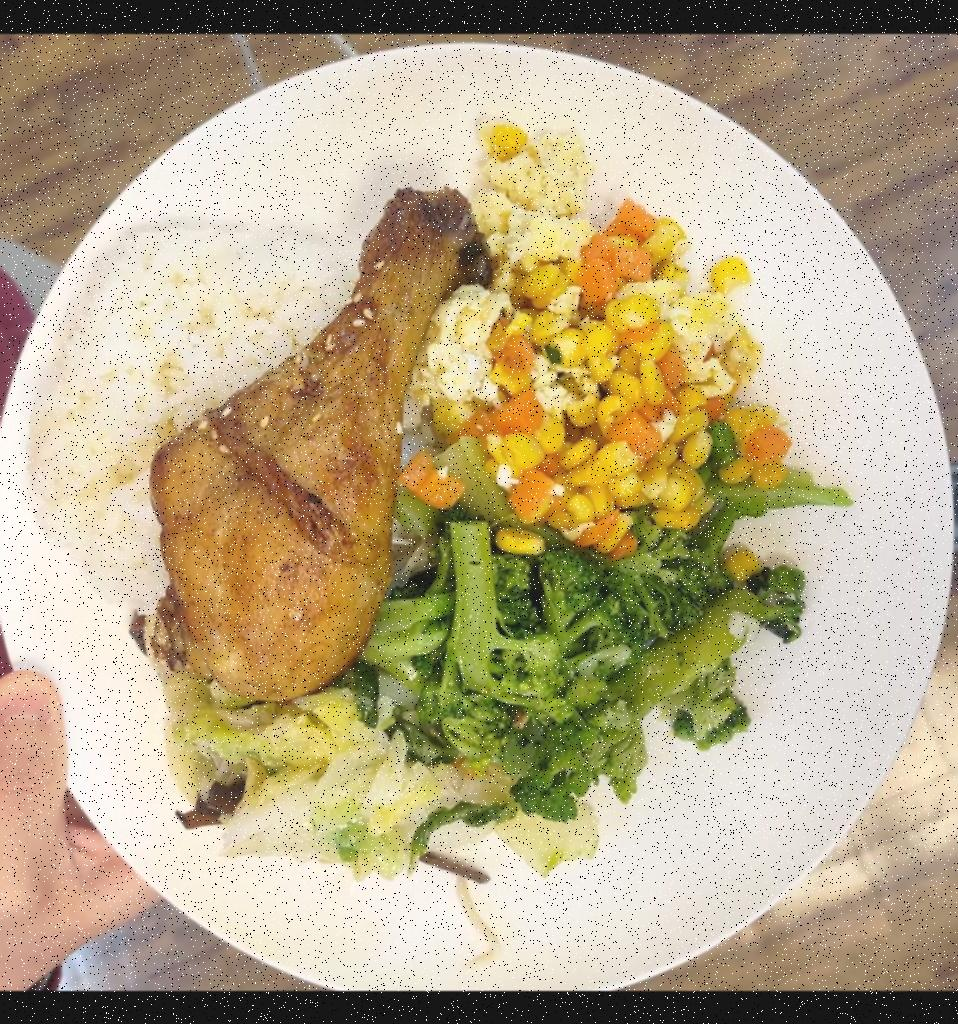plate: (0, 39, 958, 991)
side dish: (435, 120, 740, 538), (363, 520, 793, 796), (152, 704, 504, 872)
small grilled chicken leg: (148, 176, 488, 714)
white rice: (18, 216, 358, 618)
